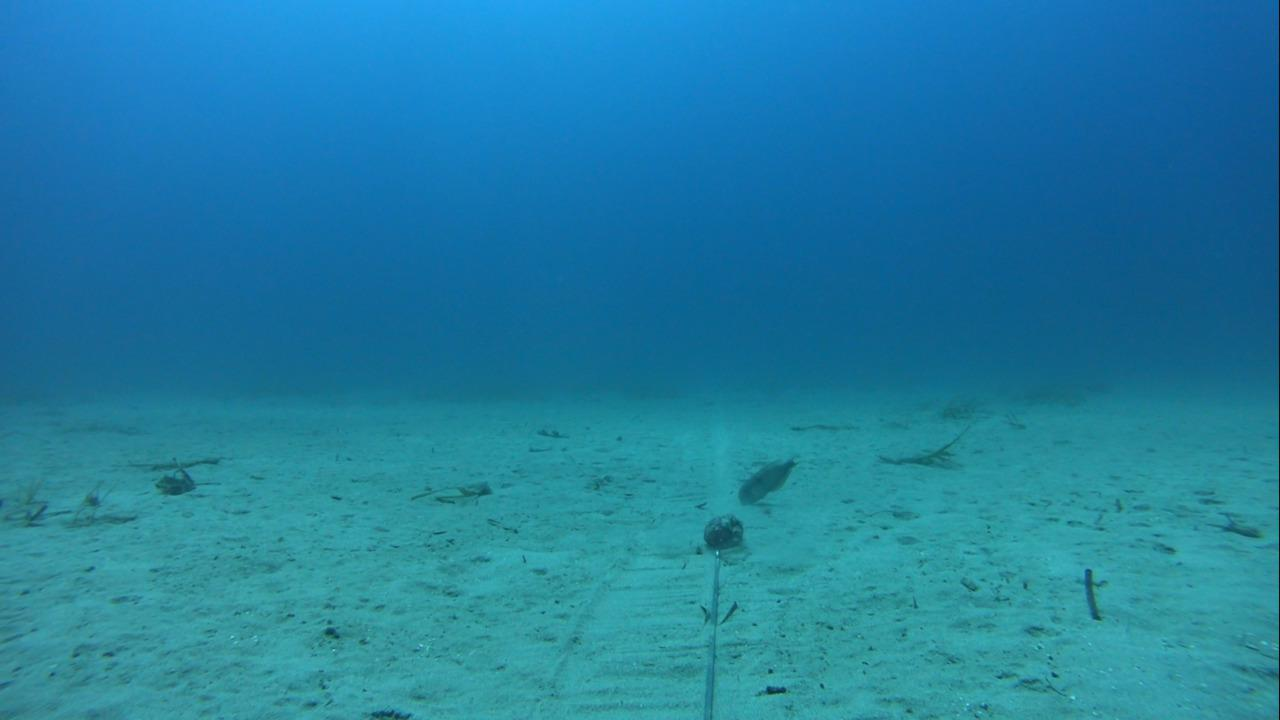raor: (734, 455, 797, 505)
